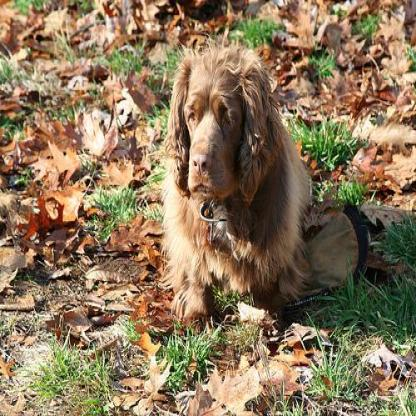Sussex_spaniel: (159, 35, 311, 331)
